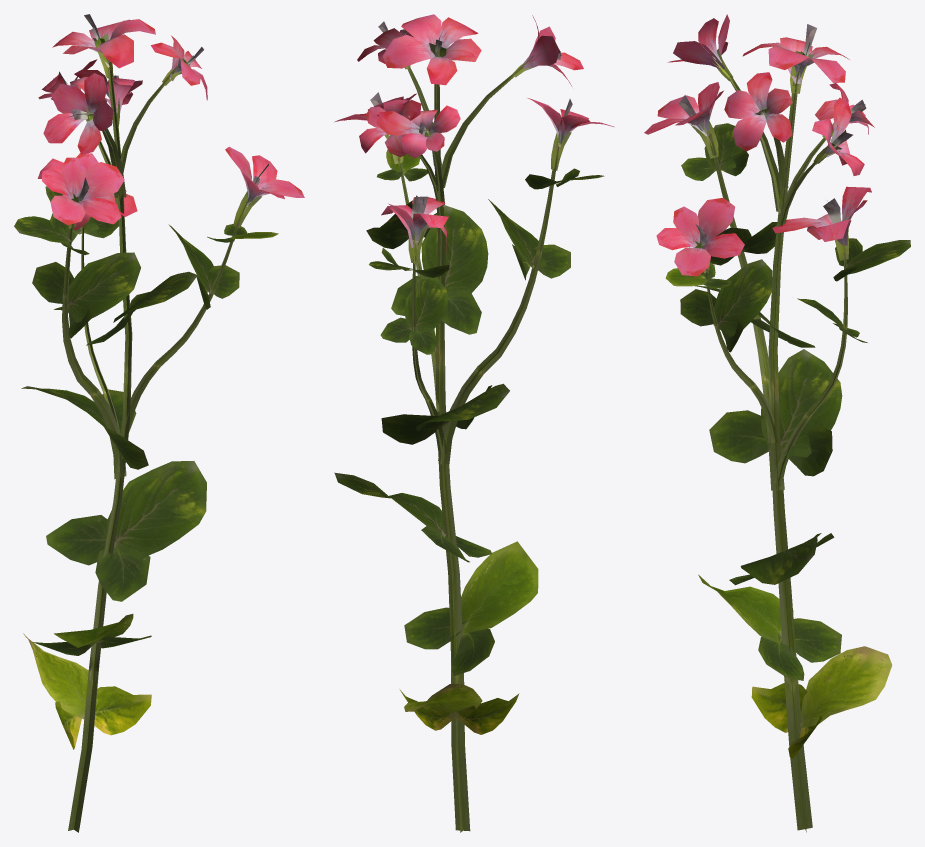
File: Periwinkle_baby_short_red.glb
3 views of the same model, side by side, from view 1: azimuth 30°, elevation 25°; view 2: azimuth 150°, elevation 25°; view 3: azimuth 270°, elevation 25° (orthographic).
Parts seen in each view (by area): view 1: _b868_Var1_LOD1; view 2: _b868_Var1_LOD1; view 3: _b868_Var1_LOD1.
Boxes of the visible parts, x1=… form: _b868_Var1_LOD1: x1=14, y1=14, x2=304, y2=832; _b868_Var1_LOD1: x1=334, y1=14, x2=614, y2=832; _b868_Var1_LOD1: x1=644, y1=14, x2=910, y2=832.
Size of the model in its own units: 0.5832 by 1.66 by 0.4917.
Materials: 1 (1 with a texture image).
